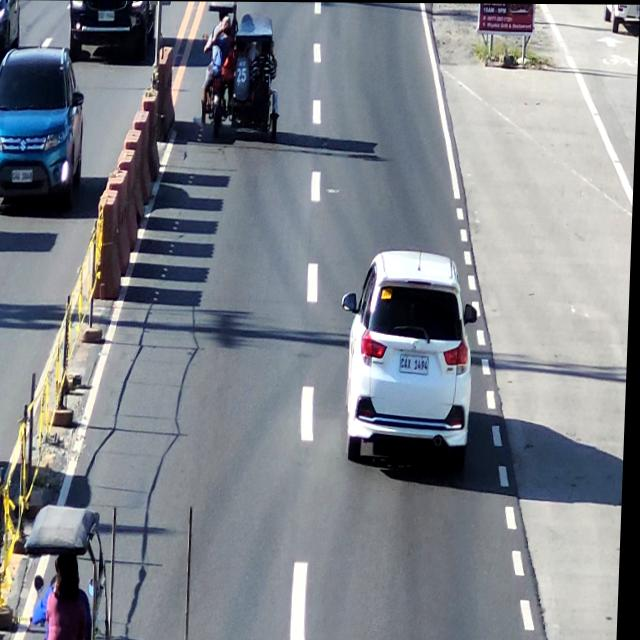Car: (343, 251, 482, 469)
License-Plate: (400, 353, 433, 376)
Tricycle: (28, 500, 202, 640), (199, 5, 280, 133)
